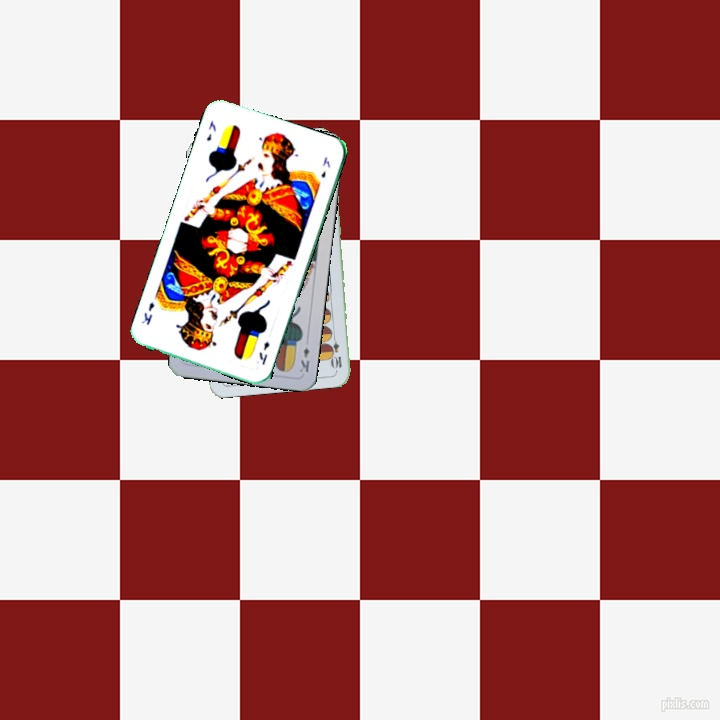E10: (327, 330, 344, 371)
EK: (296, 343, 312, 375), (255, 337, 272, 367), (202, 117, 219, 144)
